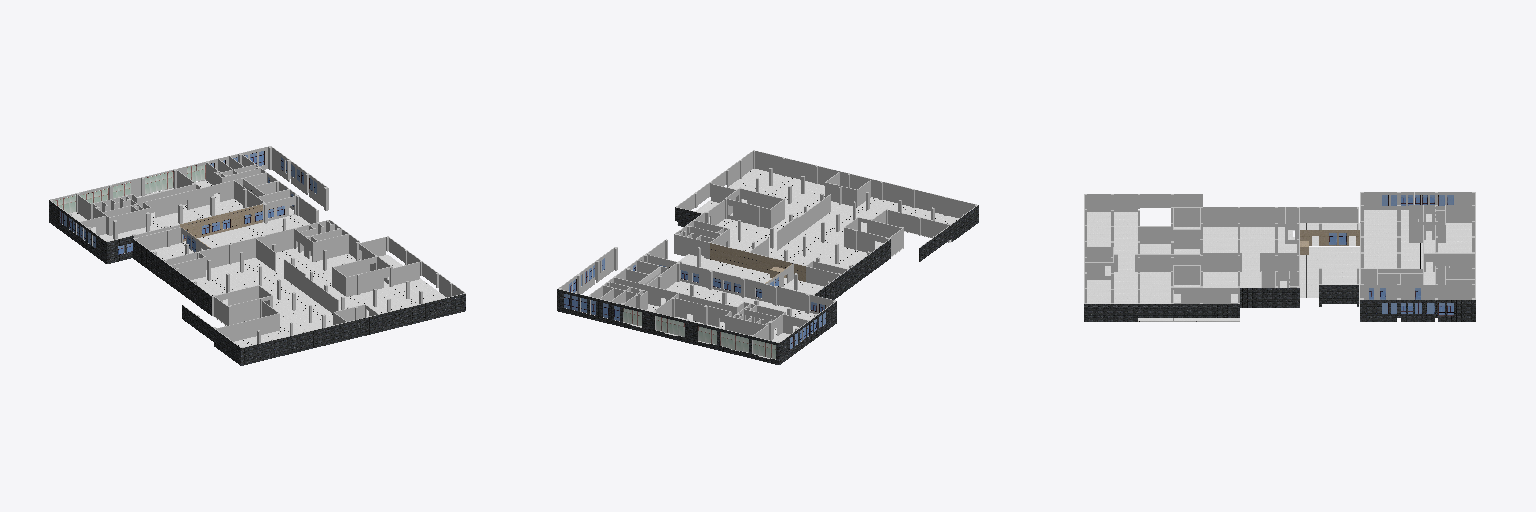
3 views of the same model, side by side, from view 1: azimuth 30°, elevation 25°; view 2: azimuth 150°, elevation 25°; view 3: azimuth 270°, elevation 25° (orthographic).
Parts seen in each view (by area): view 1: LC_1F_qiang, LC_1F_diban_wai, LC_1F_bolimen, C_1F_chuang1; view 2: LC_1F_qiang, LC_1F_diban_wai, LC_1F_bolimen, C_1F_chuang1; view 3: LC_1F_qiang, LC_1F_diban_wai, C_1F_chuang1, C_1F_chuang3.
Boxes of the visible parts, <box> form: LC_1F_qiang: <box>49,146,465,365</box>; LC_1F_diban_wai: <box>71,180,446,346</box>; LC_1F_bolimen: <box>54,165,205,212</box>; C_1F_chuang1: <box>69,151,303,254</box>; LC_1F_qiang: <box>557,150,978,364</box>; LC_1F_diban_wai: <box>631,169,958,358</box>; LC_1F_bolimen: <box>623,308,775,358</box>; C_1F_chuang1: <box>564,265,825,341</box>; LC_1F_qiang: <box>1084,192,1475,321</box>; LC_1F_diban_wai: <box>1087,210,1471,321</box>; C_1F_chuang1: <box>1329,195,1453,315</box>; C_1F_chuang3: <box>1382,195,1453,313</box>.
Size of the model in its own units: 58500 by 5506 by 87950.
Materials: 8 (7 with a texture image).